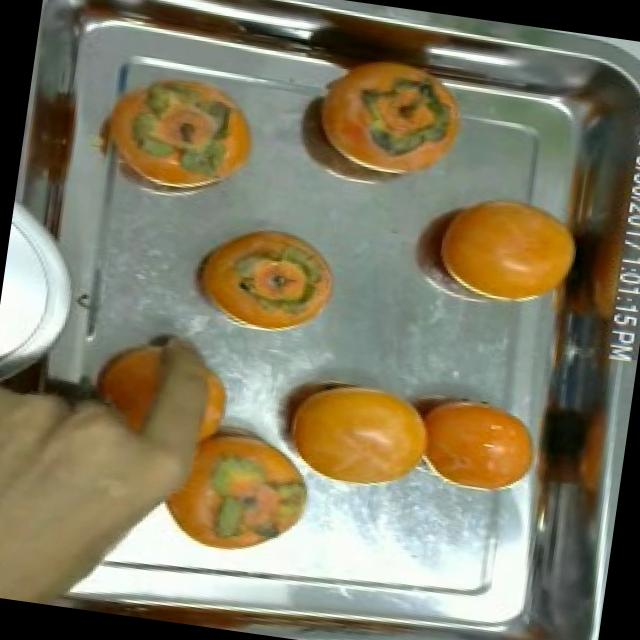Fruit: (48, 305, 254, 499), (82, 43, 276, 218), (142, 411, 331, 575), (254, 360, 448, 508), (408, 177, 597, 320), (174, 207, 348, 348), (394, 379, 547, 505)
